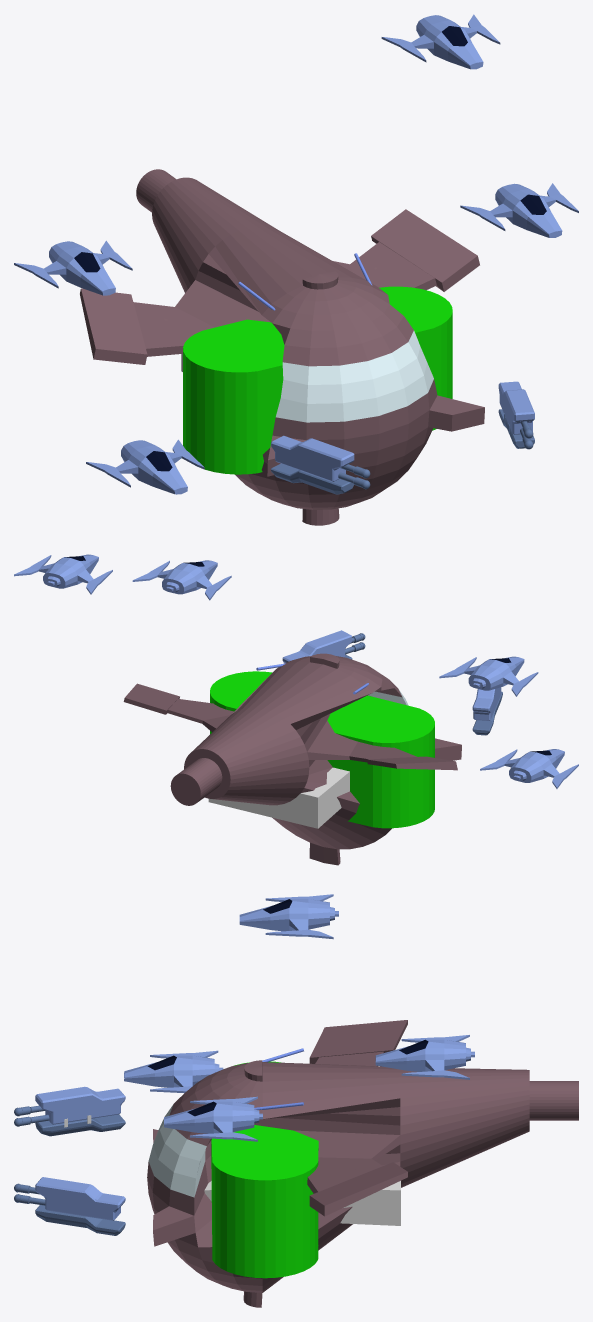
Rendered from topgun.fbx.
3 views of the same model, one above another, from view 1: azimuth 30°, elevation 25°; view 2: azimuth 150°, elevation 25°; view 3: azimuth 270°, elevation 25° (orthographic). The views are drawn at different scales.
Parts seen in each view (by area): view 1: Sphere, Cube, Cube.002, Cube.001, Cube.003, Cube.007, Cube.006, Cube.008; view 2: Sphere, Cube.004, Cube, Cube.001, Cube.002, Cube.003, Cube.006, Cube.007; view 3: Sphere, Cube.006, Cube.003, Cube, Cube.001, Cube.002, Cube.007, Cube.004, Cube.008.
Boxes of the visible parts, x1,y1,x2,y2 form: Sphere: (80,169,484,525); Cube: (14,240,132,295); Cube.002: (86,439,204,494); Cube.001: (460,183,578,237); Cube.003: (381,14,500,69); Cube.007: (271,435,354,481); Cube.006: (498,381,534,449); Cube.008: (271,463,354,494); Sphere: (123,653,461,865); Cube.004: (208,767,349,828); Cube: (439,656,538,696); Cube.001: (132,560,231,600); Cube.002: (480,749,578,788); Cube.003: (14,554,112,594); Cube.006: (282,630,365,662); Cube.007: (472,687,501,720); Sphere: (147,1020,578,1307); Cube.006: (14,1177,125,1235); Cube.003: (375,1035,474,1079); Cube: (239,894,338,939); Cube.001: (164,1096,262,1141); Cube.002: (124,1050,223,1093); Cube.007: (35,1086,125,1124); Cube.004: (204,1181,400,1225); Cube.008: (35,1114,125,1136).
Bounding box in the file's own units: 508 × 344 × 489.
